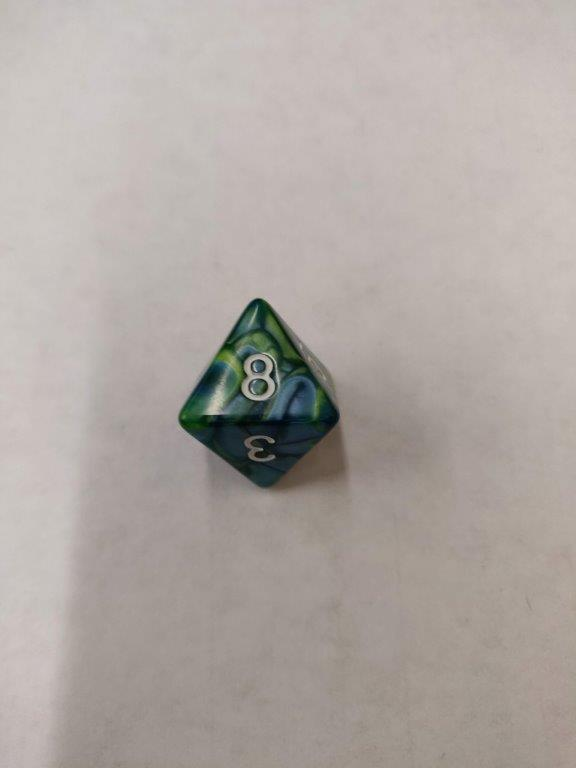d8-8: (170, 298, 341, 491)
